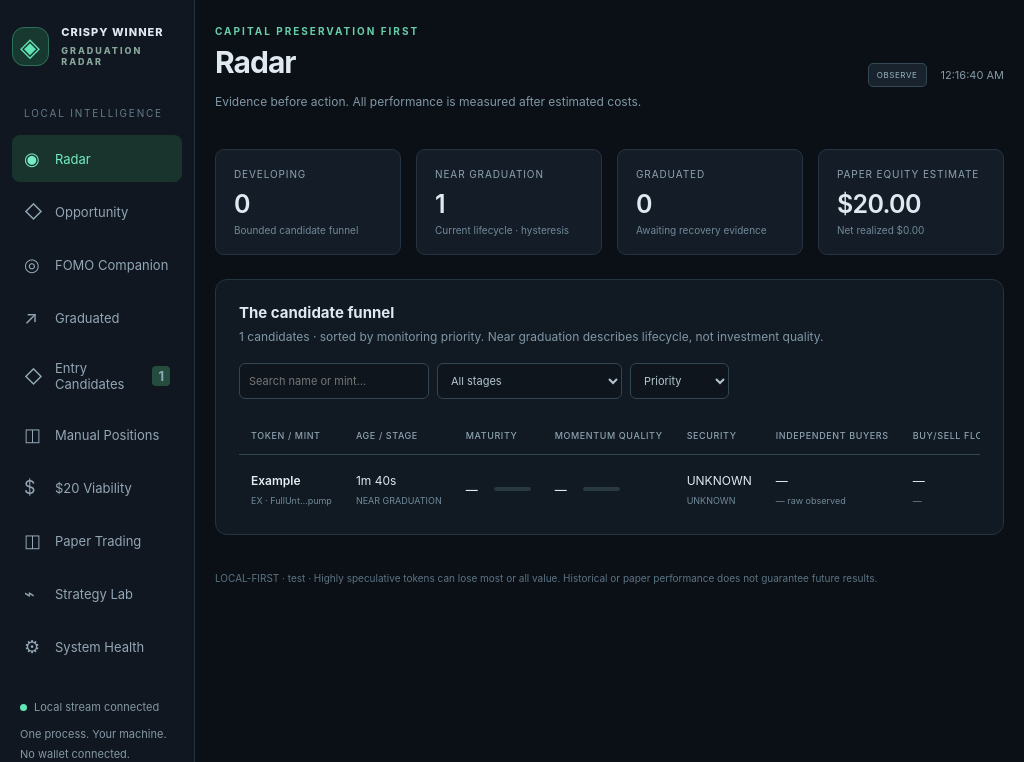
navigation, intelligence and SSE invalidate entry to WAIT without companion fetching
Click the button "◎ FOMO Companion": (97, 264) [12,241,182,288]
(page scrolled)
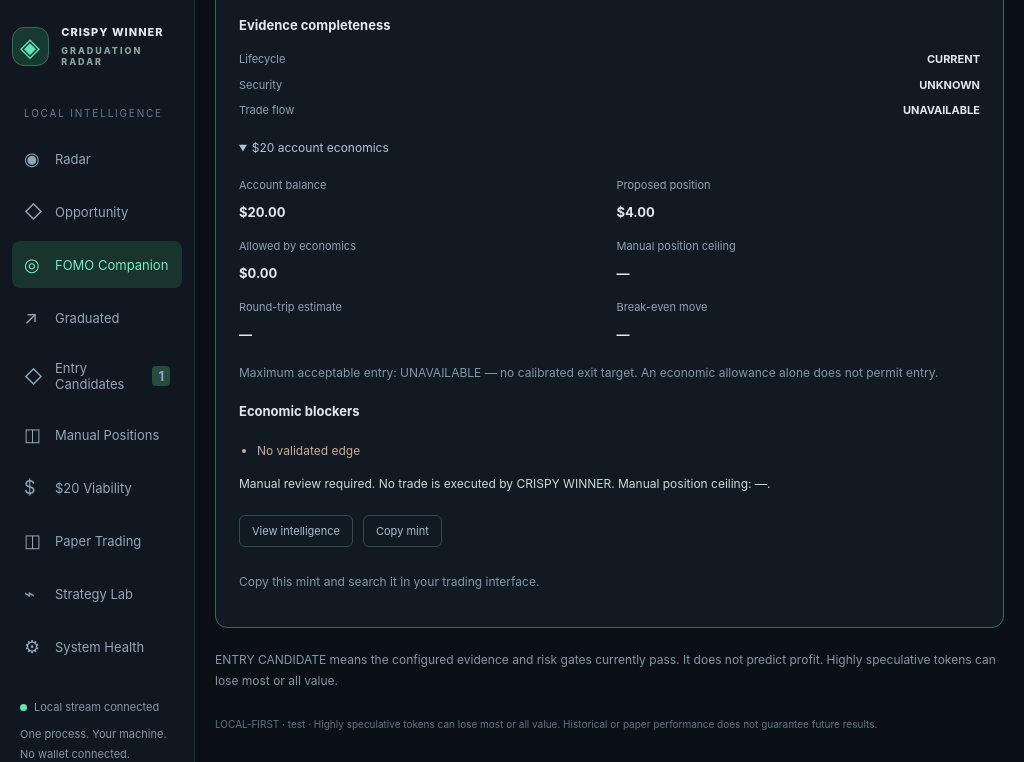
Click the button "View intelligence": (296, 531) [239,515,353,547]
(page scrolled)
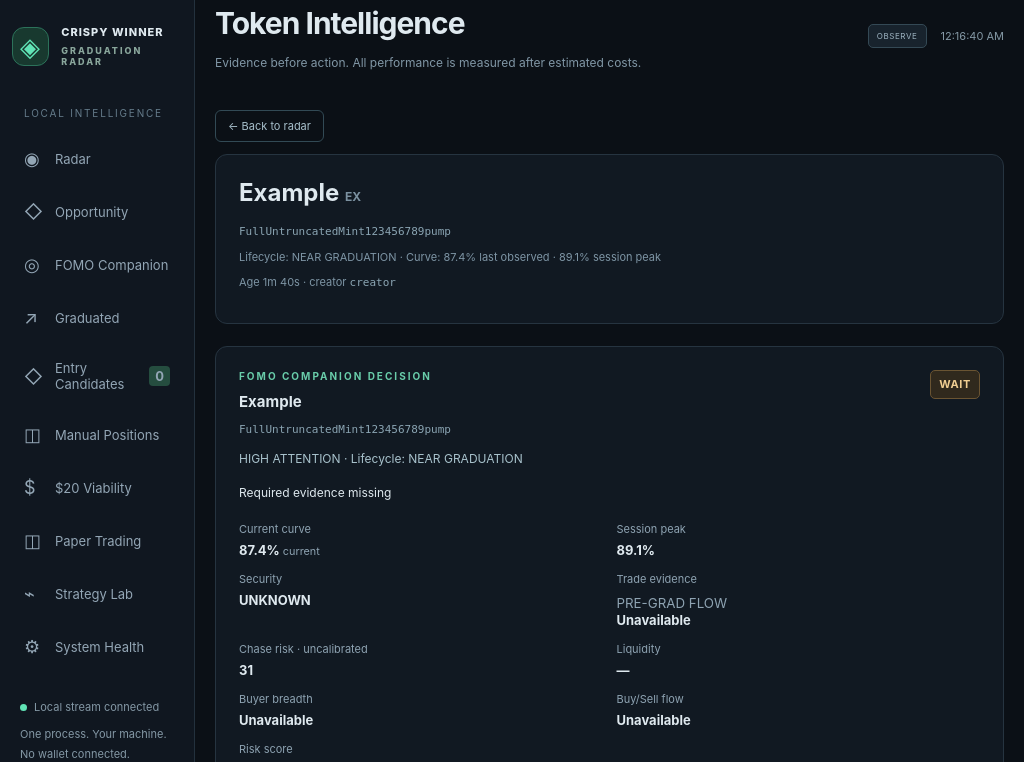
Now the text "FOMO COMPANION DECISION" is shown, box [239,370,451,382]
Now the text "WAIT" is shown, box [930,370,980,399]
